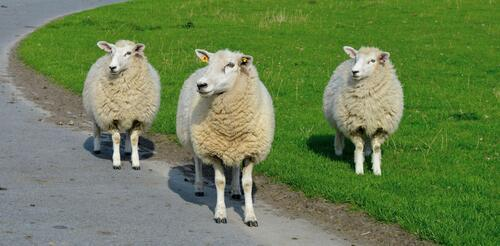sheep: (176, 49, 275, 227), (323, 46, 404, 176), (82, 40, 161, 170)
